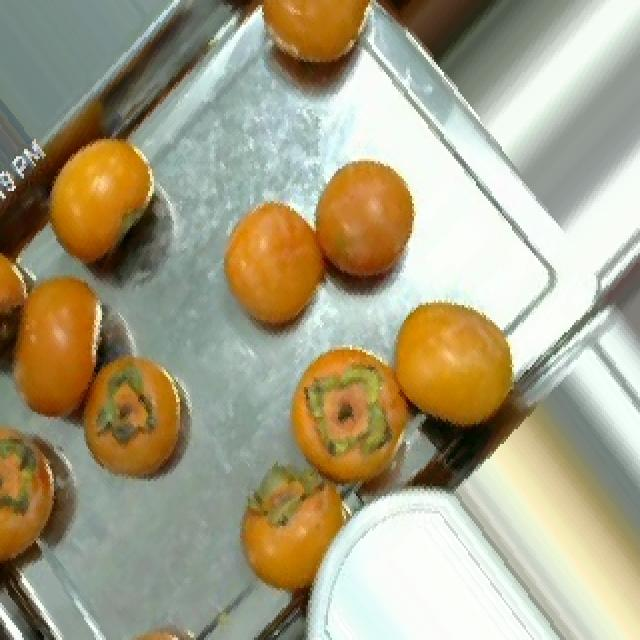Fruit: (272, 325, 436, 516), (374, 273, 542, 456), (222, 442, 378, 628), (204, 176, 348, 360), (32, 111, 180, 288), (298, 136, 438, 320), (66, 335, 208, 503), (0, 400, 104, 600), (240, 0, 400, 122), (360, 0, 528, 82)
